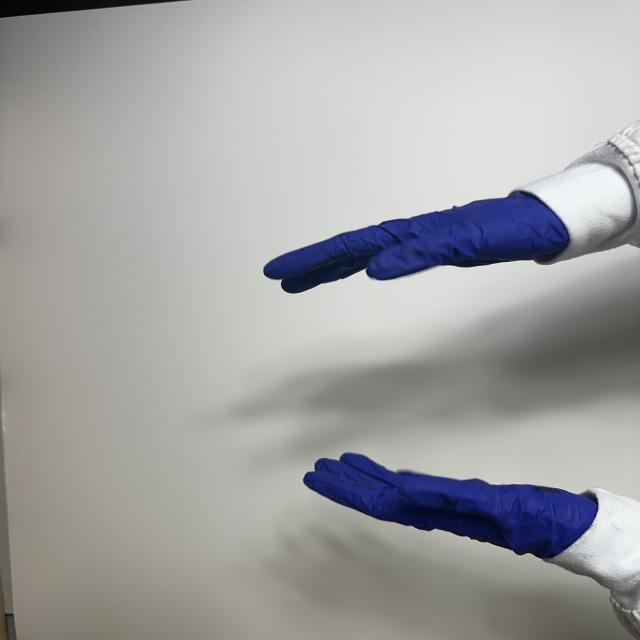gloves_contaminated: (264, 192, 569, 293), (304, 454, 596, 558)
